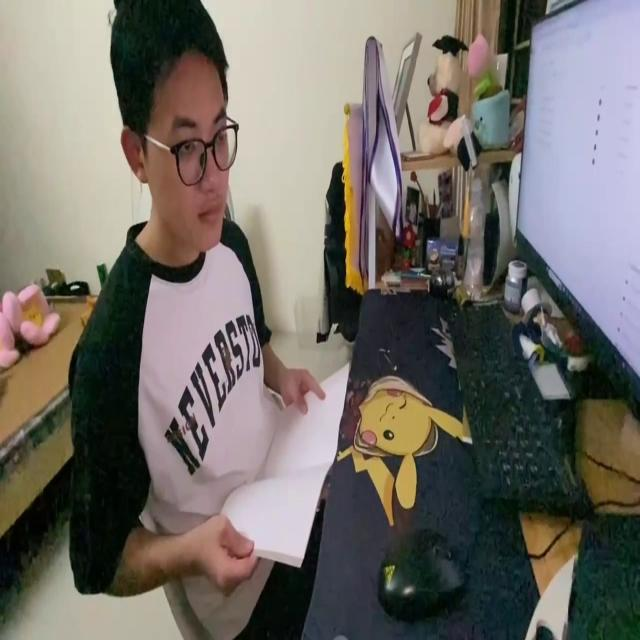book: (216, 362, 356, 572)
laptop: (512, 2, 640, 426)
student: (65, 0, 329, 640)
